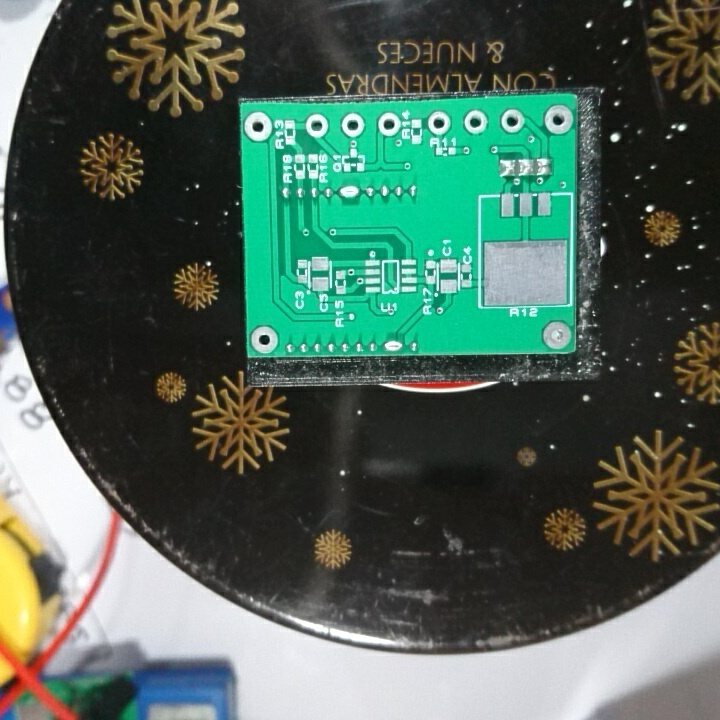F: (242, 109, 275, 144), (248, 324, 281, 357), (541, 319, 573, 352), (541, 103, 573, 134), (460, 108, 487, 135), (499, 107, 525, 135), (339, 112, 367, 138), (304, 112, 330, 139), (376, 112, 401, 138), (425, 109, 449, 133)
P: (336, 183, 359, 202), (383, 336, 404, 355)
